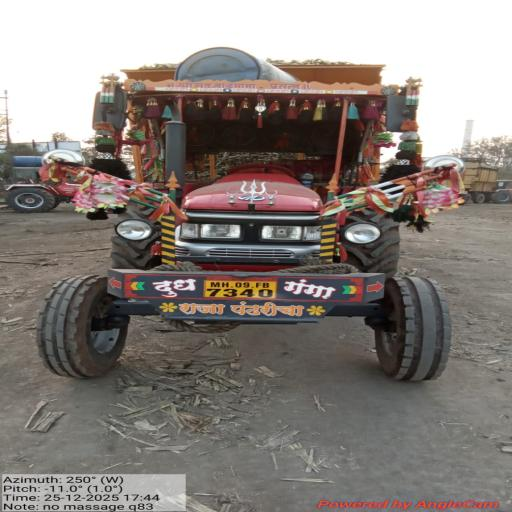number_plate: (205, 280, 276, 298)
